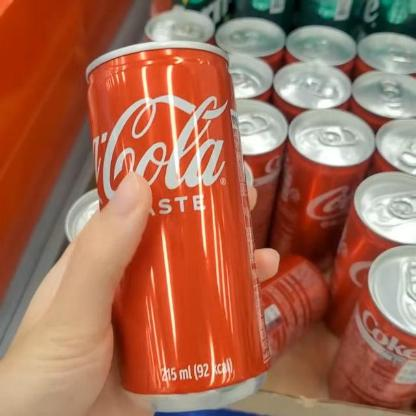Can: (86, 39, 266, 413)
